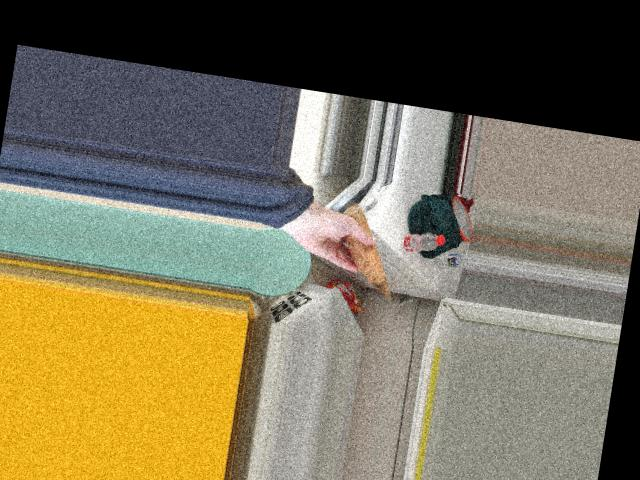sweet_potato: (340, 224, 394, 278)
